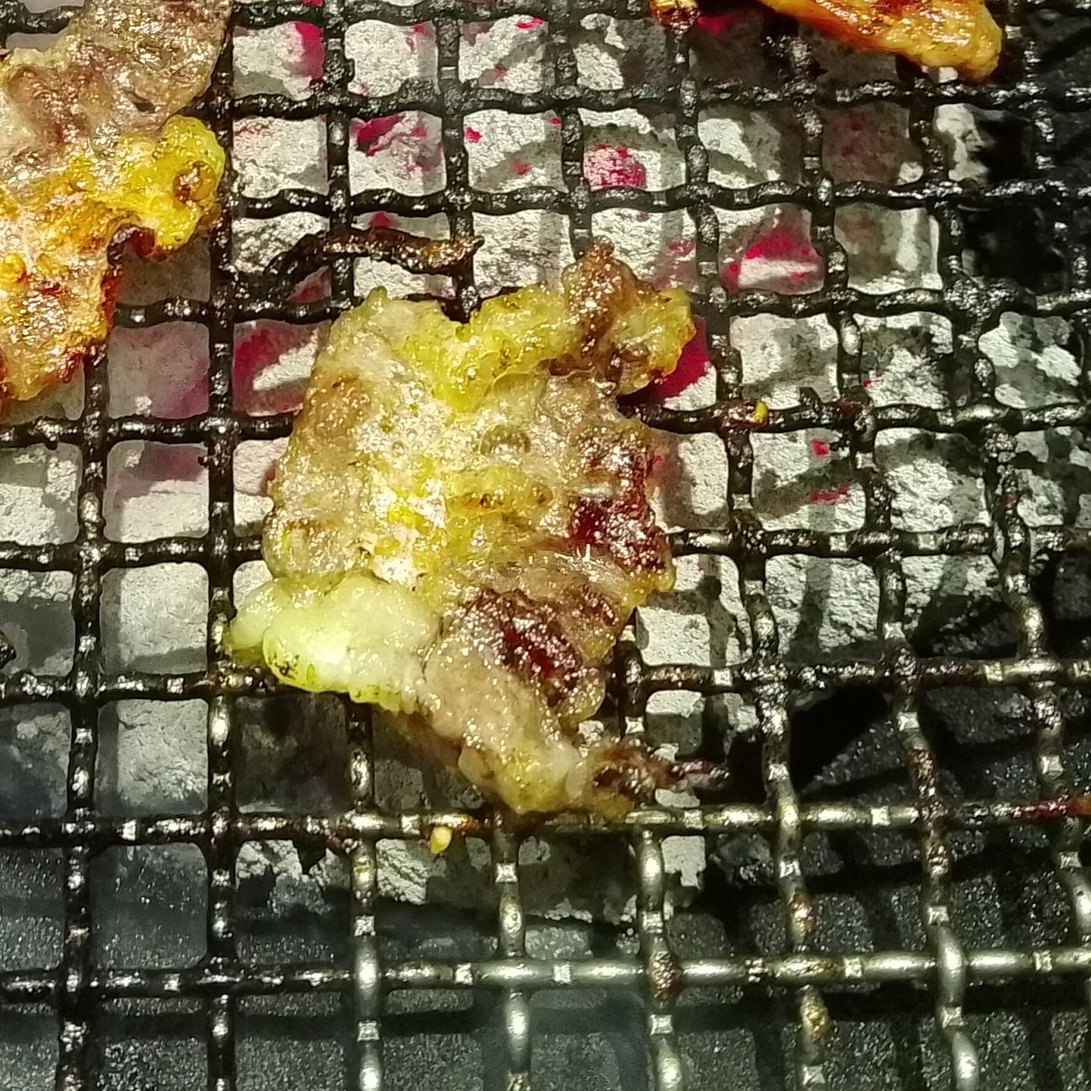Overcooked: (230, 245, 706, 831), (0, 0, 234, 428)
